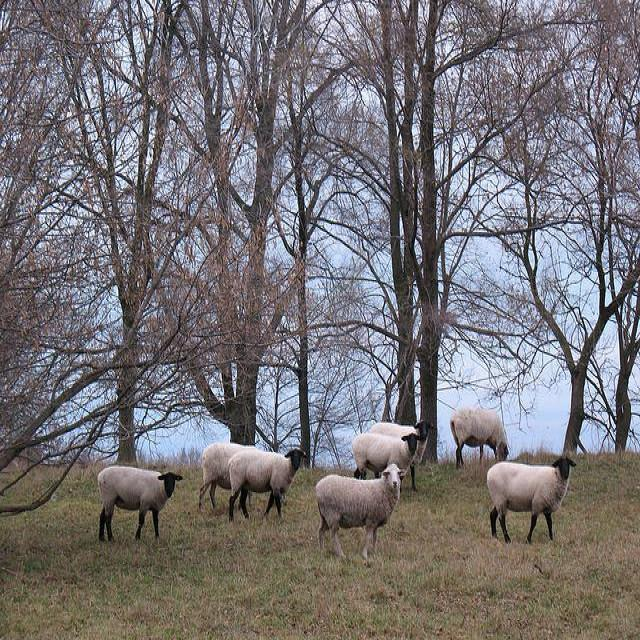Sheep: (316, 464, 407, 560), (489, 459, 573, 545), (100, 465, 183, 544), (199, 443, 287, 513), (228, 452, 310, 525), (487, 462, 558, 538), (369, 420, 433, 492), (451, 405, 510, 471), (353, 432, 422, 479)
